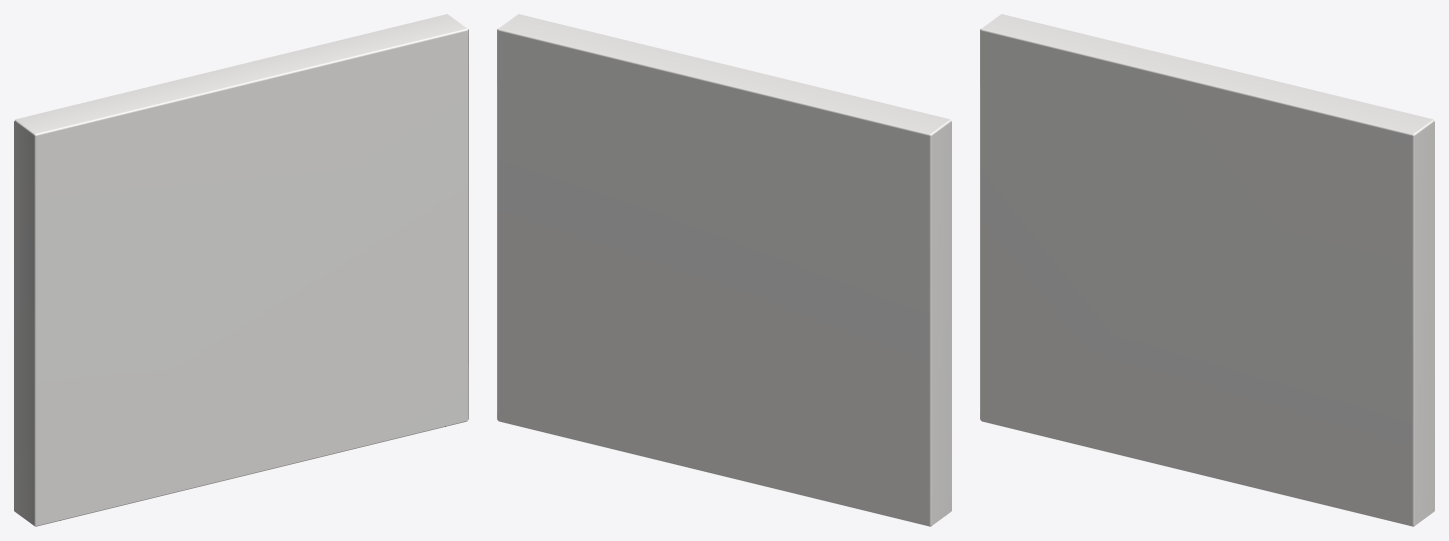
Rendered from Wall_8.glb.
3 renders of one model, left to right at view 1: azimuth 30°, elevation 25°; view 2: azimuth 150°, elevation 25°; view 3: azimuth 330°, elevation 25°, orthographic.
Parts seen in each view (by area): view 1: Wall_8; view 2: Wall_8; view 3: Wall_8.
Part boxes in pixels (bbox=[...]): Wall_8: bbox=[14, 14, 468, 526]; Wall_8: bbox=[497, 14, 951, 526]; Wall_8: bbox=[980, 14, 1434, 526].
Bounding box in the file's own units: 4.63 × 4 × 0.4.
Materials: 1 (1 with a texture image).
